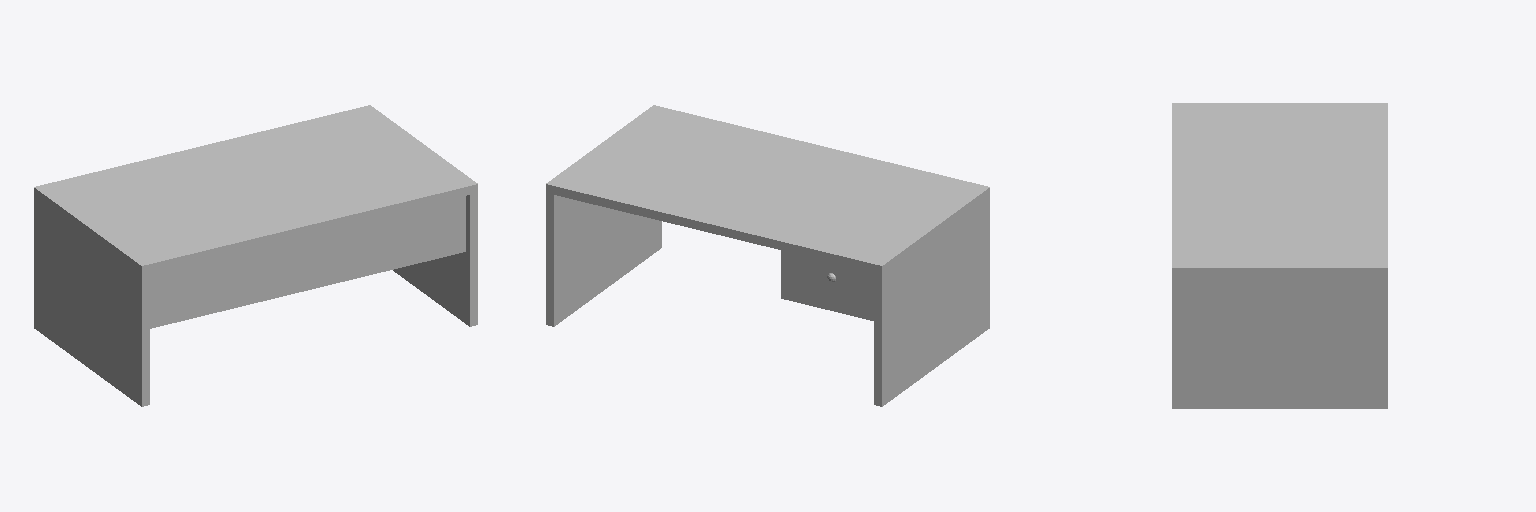
The model's file is Escritorio2.obj.
3 renders of one model, left to right at view 1: azimuth 30°, elevation 25°; view 2: azimuth 150°, elevation 25°; view 3: azimuth 270°, elevation 25°, orthographic.
Parts seen in each view (by area): view 1: Cubo.001; view 2: Cubo.001; view 3: Cubo.001.
Boxes of the visible parts, <box> form: Cubo.001: <box>34,105,477,406</box>; Cubo.001: <box>546,105,989,406</box>; Cubo.001: <box>1172,103,1387,408</box>.
Bounding box in the file's own units: 2 × 0.8 × 1.11.